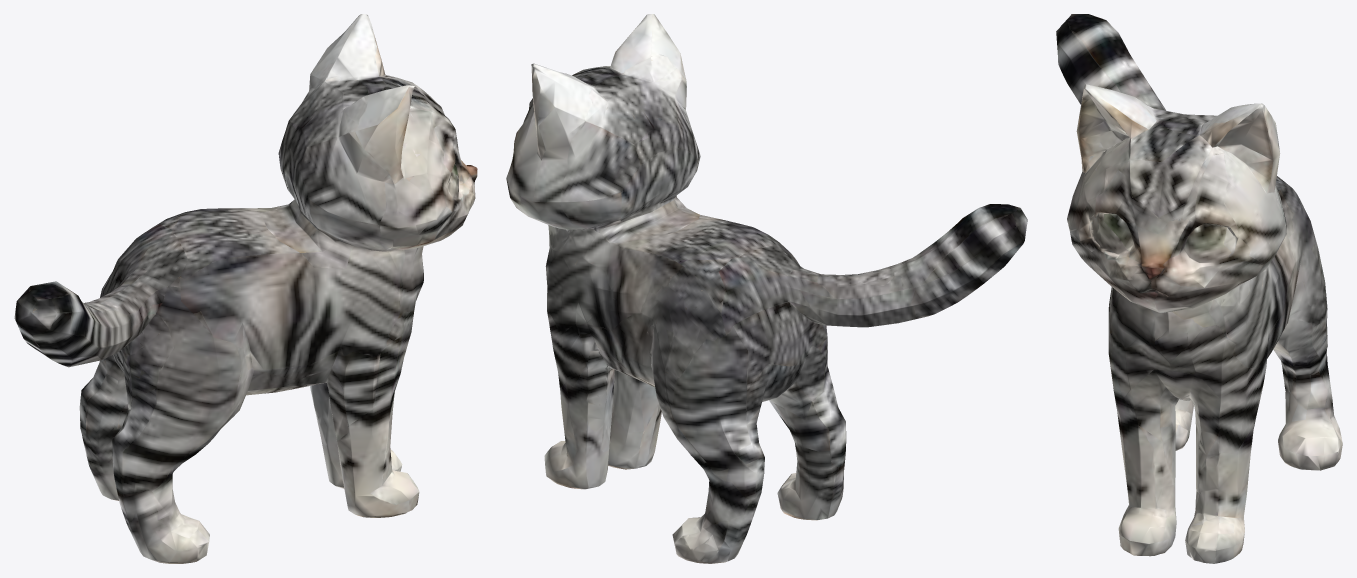
The model's file is MILLRACE-lo.glb.
The picture shows the model from 3 angles, left to right: view 1: azimuth 30°, elevation 25°; view 2: azimuth 150°, elevation 25°; view 3: azimuth 270°, elevation 25°; orthographic projection. The views are drawn at different scales.
Parts seen in each view (by area): view 1: fit; view 2: fit; view 3: fit.
Part boxes in pixels (x1=…): fit: x1=14, y1=14, x2=477, y2=563; fit: x1=506, y1=14, x2=1027, y2=563; fit: x1=1056, y1=14, x2=1342, y2=563.
Size of the model in its own units: 1.16 by 0.9997 by 0.5691.
1 material, 1 textured.
